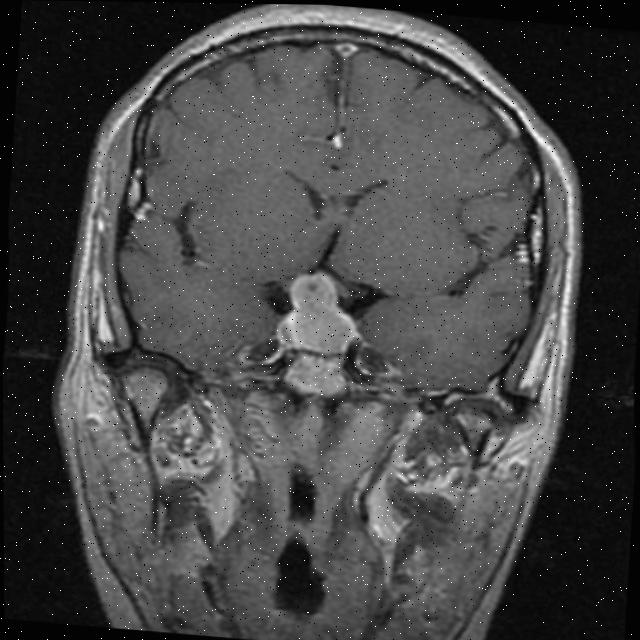Pituitary: (273, 267, 364, 356), (282, 353, 348, 399)
